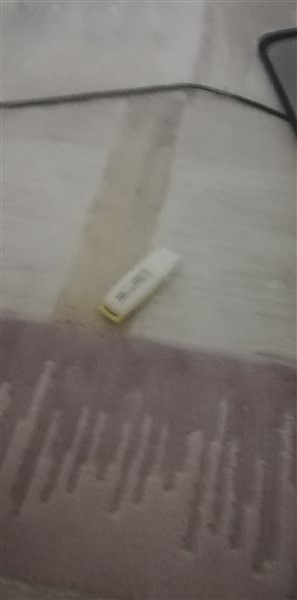flash disk: (98, 245, 187, 331)
